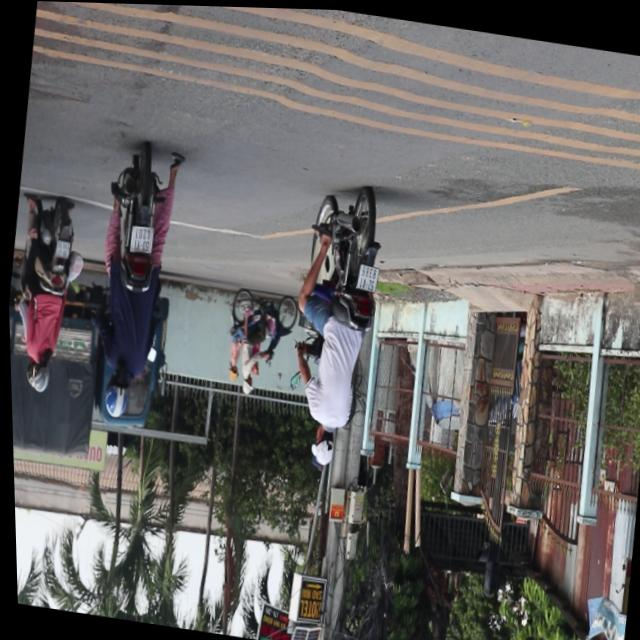helmet: (99, 368, 132, 420), (25, 357, 52, 396)
licenseplate: (273, 177, 396, 475), (77, 139, 190, 425), (4, 193, 87, 398)
motorcyclist: (306, 423, 336, 468)
nohelmet: (127, 225, 153, 254), (355, 263, 379, 292), (53, 239, 70, 259)
